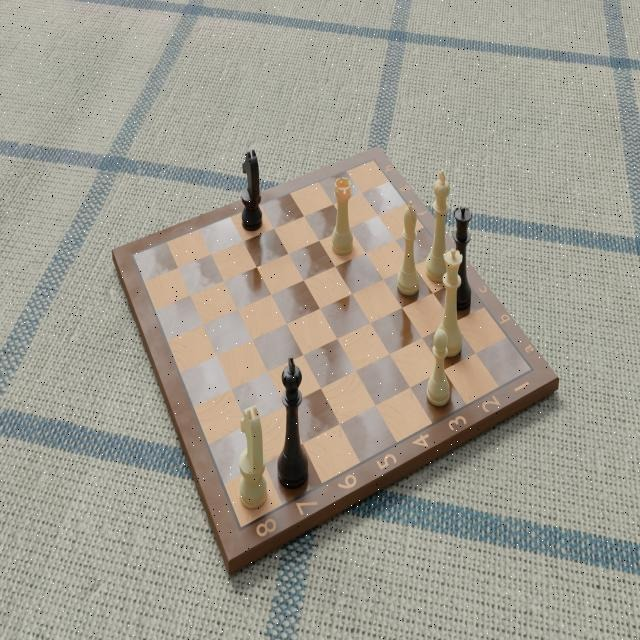black-king: (275, 354, 309, 491)
black-knight: (239, 147, 264, 233)
black-queen: (448, 203, 476, 312)
white-bishop: (395, 196, 423, 299)
white-king: (423, 166, 453, 284)
white-knight: (235, 402, 268, 514)
white-pawn: (425, 327, 453, 410)
white-queen: (439, 248, 465, 360)
white-rook: (328, 173, 358, 260)
